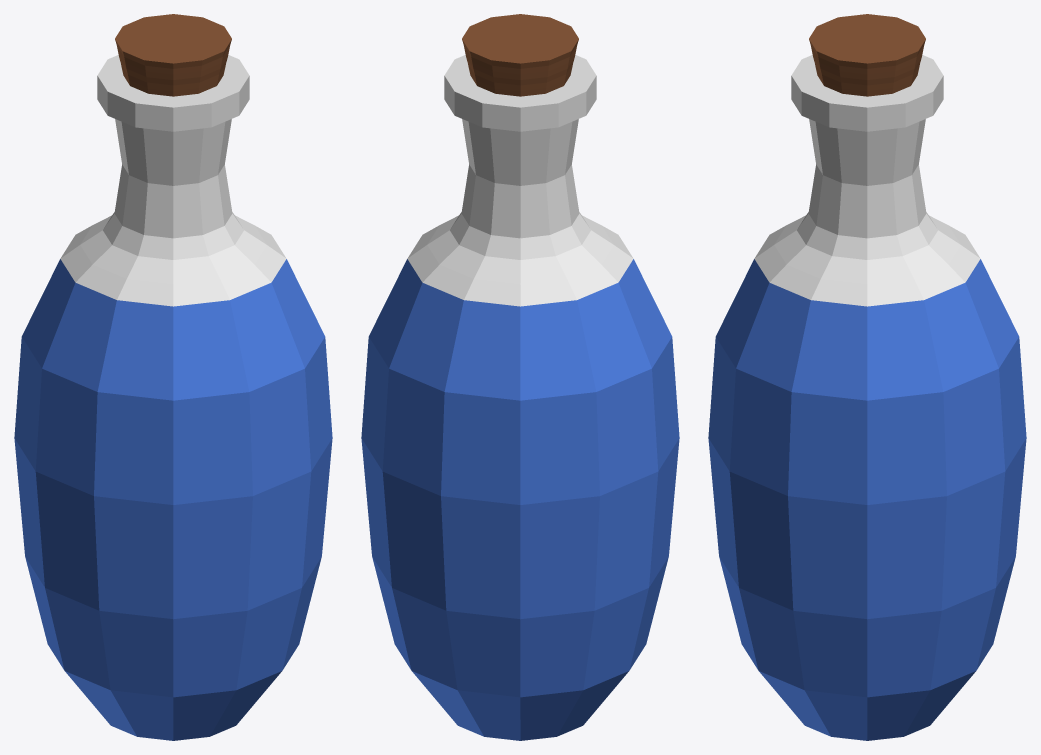
Rendered from medium_potion_blue.fbx.
3 renders of one model, left to right at view 1: azimuth 30°, elevation 25°; view 2: azimuth 150°, elevation 25°; view 3: azimuth 270°, elevation 25°, orthographic.
Parts seen in each view (by area): view 1: bluepotion2; view 2: bluepotion2; view 3: bluepotion2.
Part boxes in pixels (x1,y1,x2,y2): bluepotion2: (14, 14, 332, 740); bluepotion2: (361, 14, 679, 740); bluepotion2: (708, 14, 1026, 740).
Bounding box in the file's own units: 37.09 × 86.38 × 37.09.
